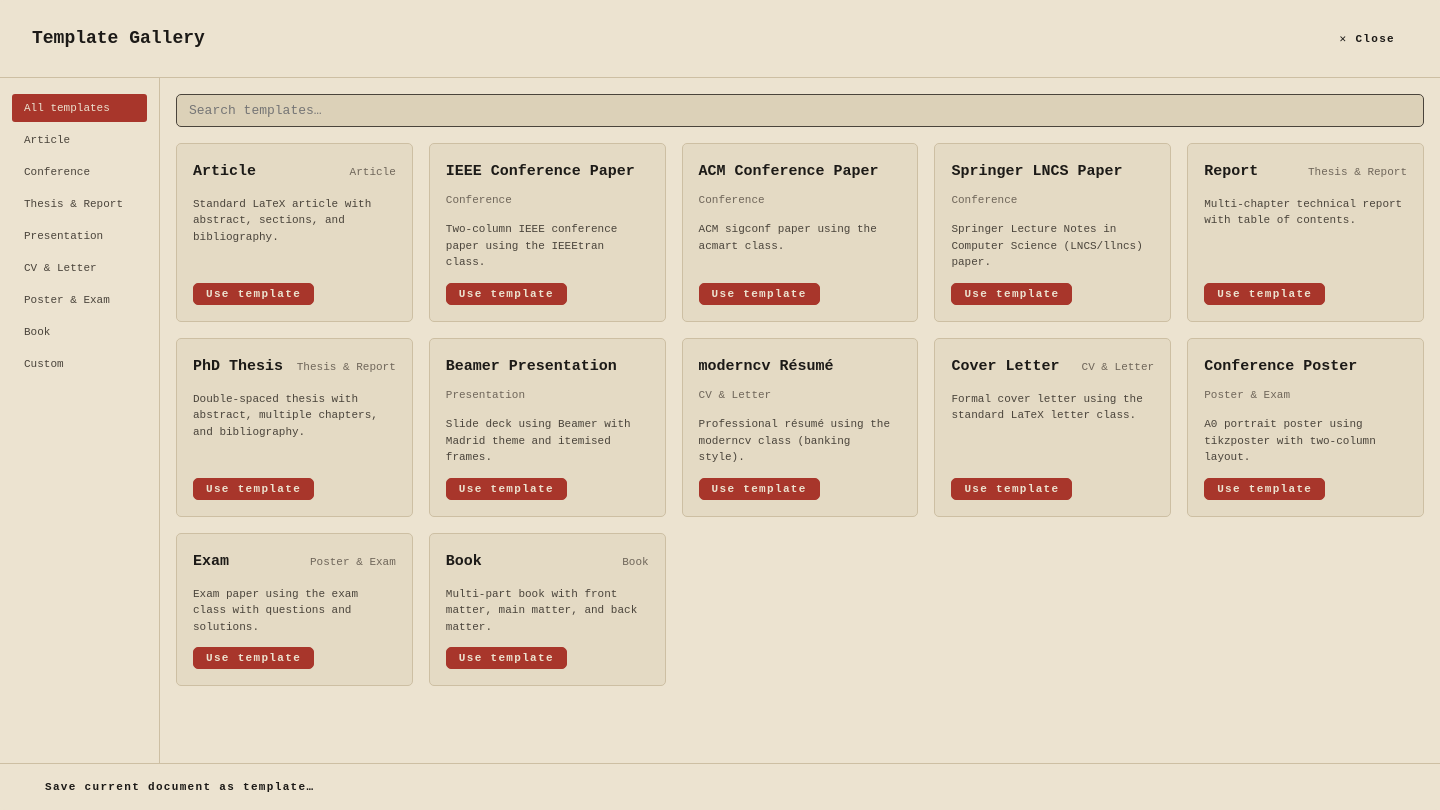
Test: TemplateGallery — save current document as template › clicking the save button shows the save form
The width and height of the screenshot is (1440, 810).
What coordinates should you click on to do the following:
click the button "Save current document as template…"
I would click on:
 (180, 787)
Its box is [32,776,327,798].
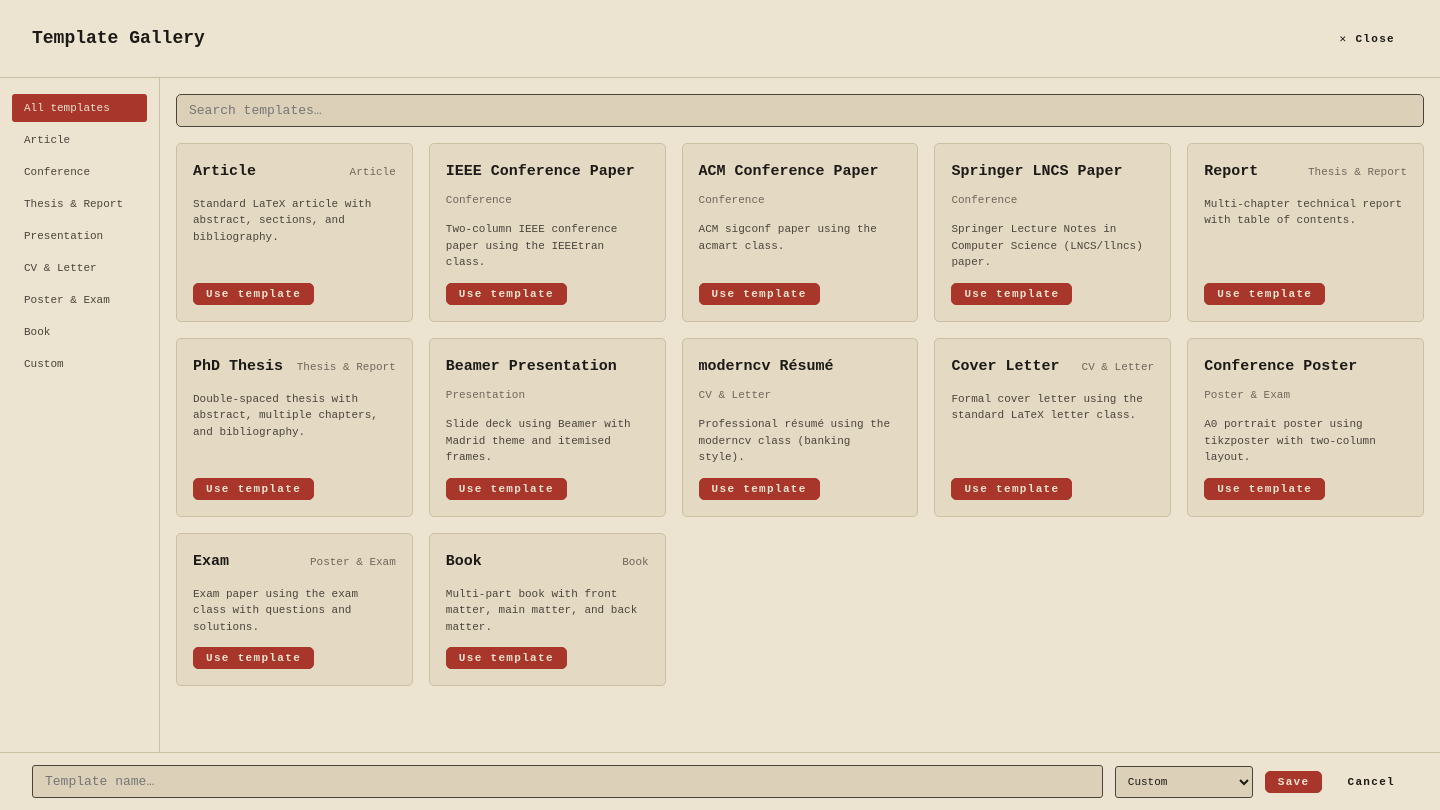
Now the form named "Save as template" is shown, box [32,765,1408,798]
